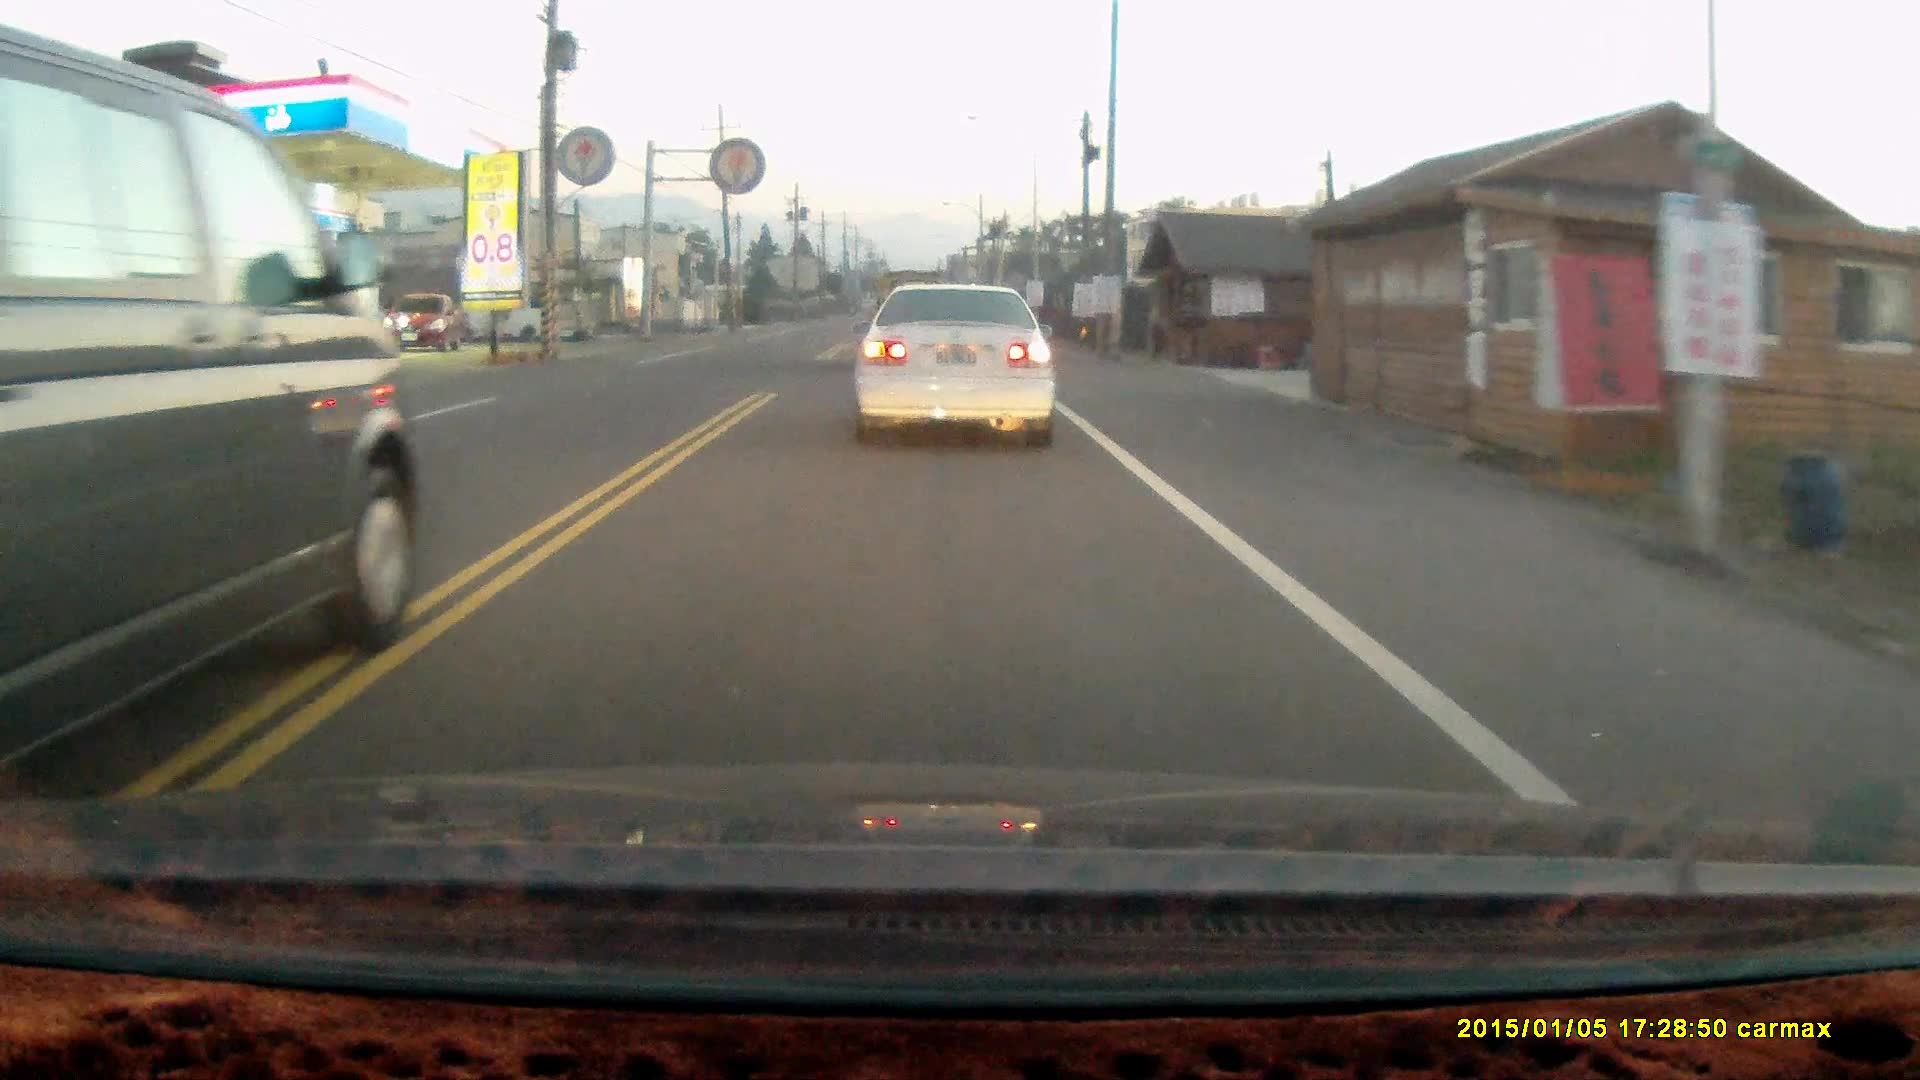vehicle: (1, 26, 415, 795), (851, 280, 1062, 458), (376, 291, 458, 345)
